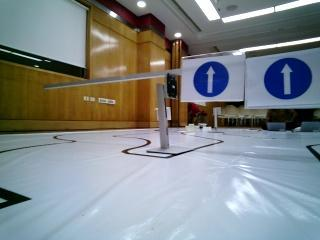straight: (246, 56, 320, 105), (183, 57, 245, 101)
